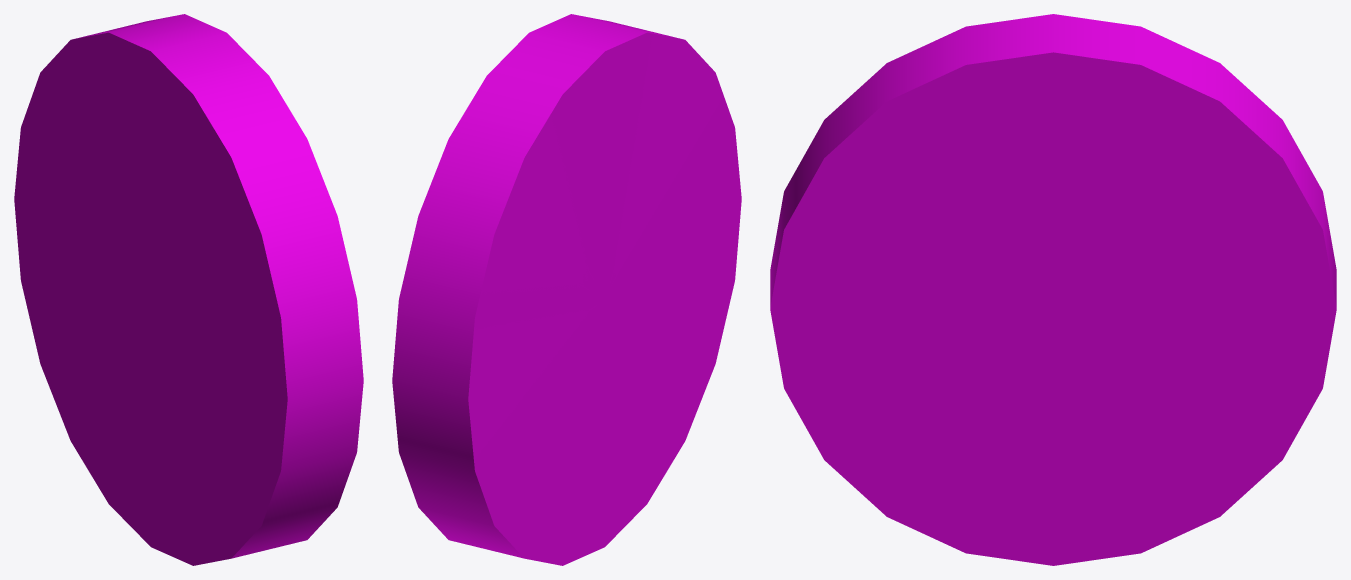
The model's file is pinkdot.fbx.
3 views of the same model, side by side, from view 1: azimuth 30°, elevation 25°; view 2: azimuth 150°, elevation 25°; view 3: azimuth 270°, elevation 25° (orthographic). The views are drawn at different scales.
Parts seen in each view (by area): view 1: pCylinder1; view 2: pCylinder1; view 3: pCylinder1.
Boxes of the visible parts, box(x1,y1,x2,y2) form: pCylinder1: box(14, 14, 363, 565); pCylinder1: box(392, 14, 741, 565); pCylinder1: box(770, 14, 1336, 565).
Bounding box in the file's own units: 0.3209 × 2 × 2.
